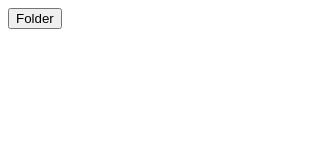
Test: checked items are one choice with a check on the chosen one, under their heading and with their hint
Later steps or results of the test are not shown.
Click the button "Folder".
click(35, 18)  # box [8, 8, 62, 29]
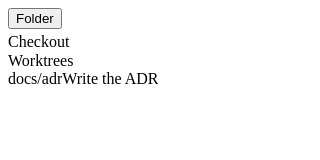
Result: the text "Worktrees" is shown at [8, 52, 73, 69]
Result: the menu item "docs/adr Write the ADR" is shown at [8, 70, 172, 88]
